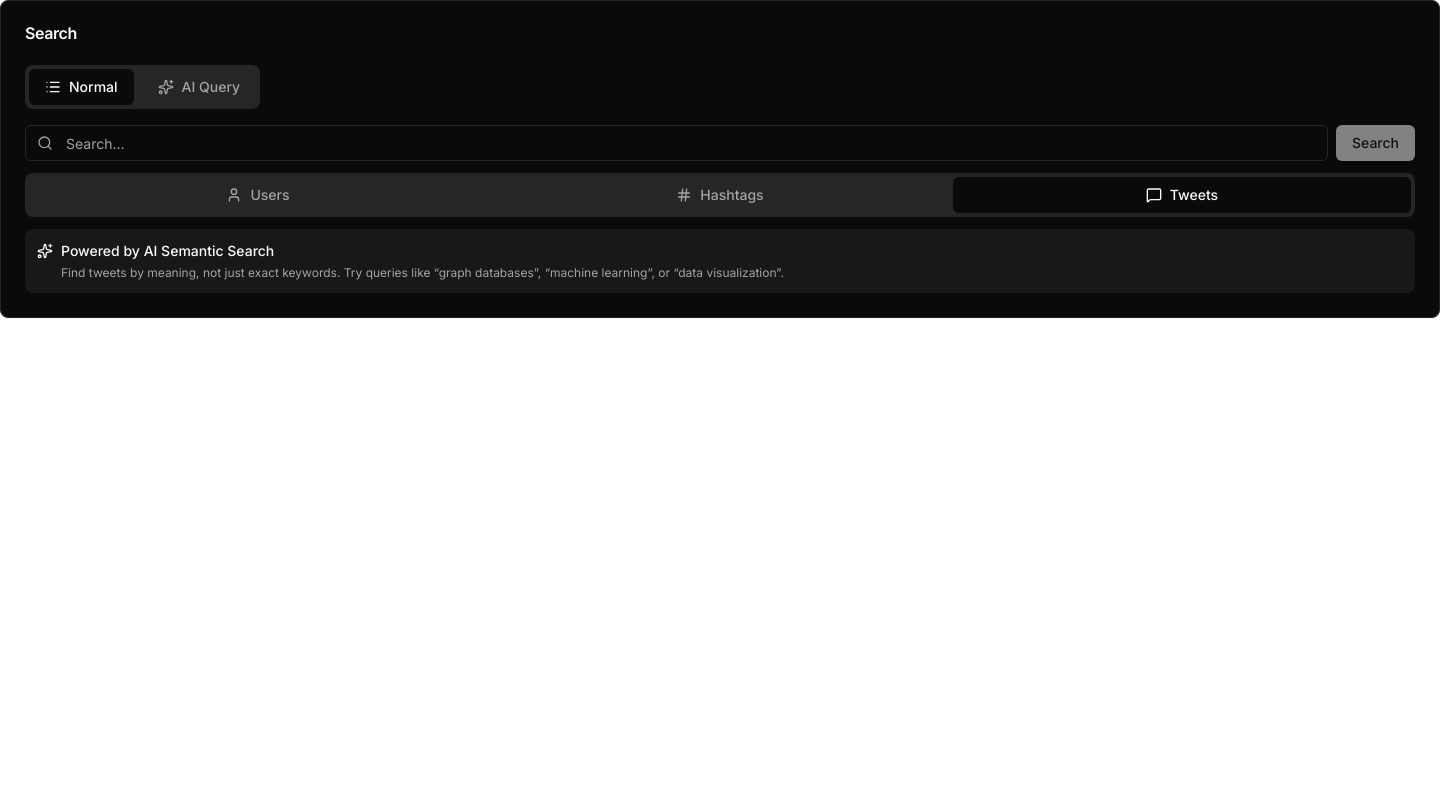
it: GlobalSearch Component › should display error message when search fails
In the field with placeholder "Search...": (676, 143) left=25, top=125, right=1328, bottom=161, type "test"
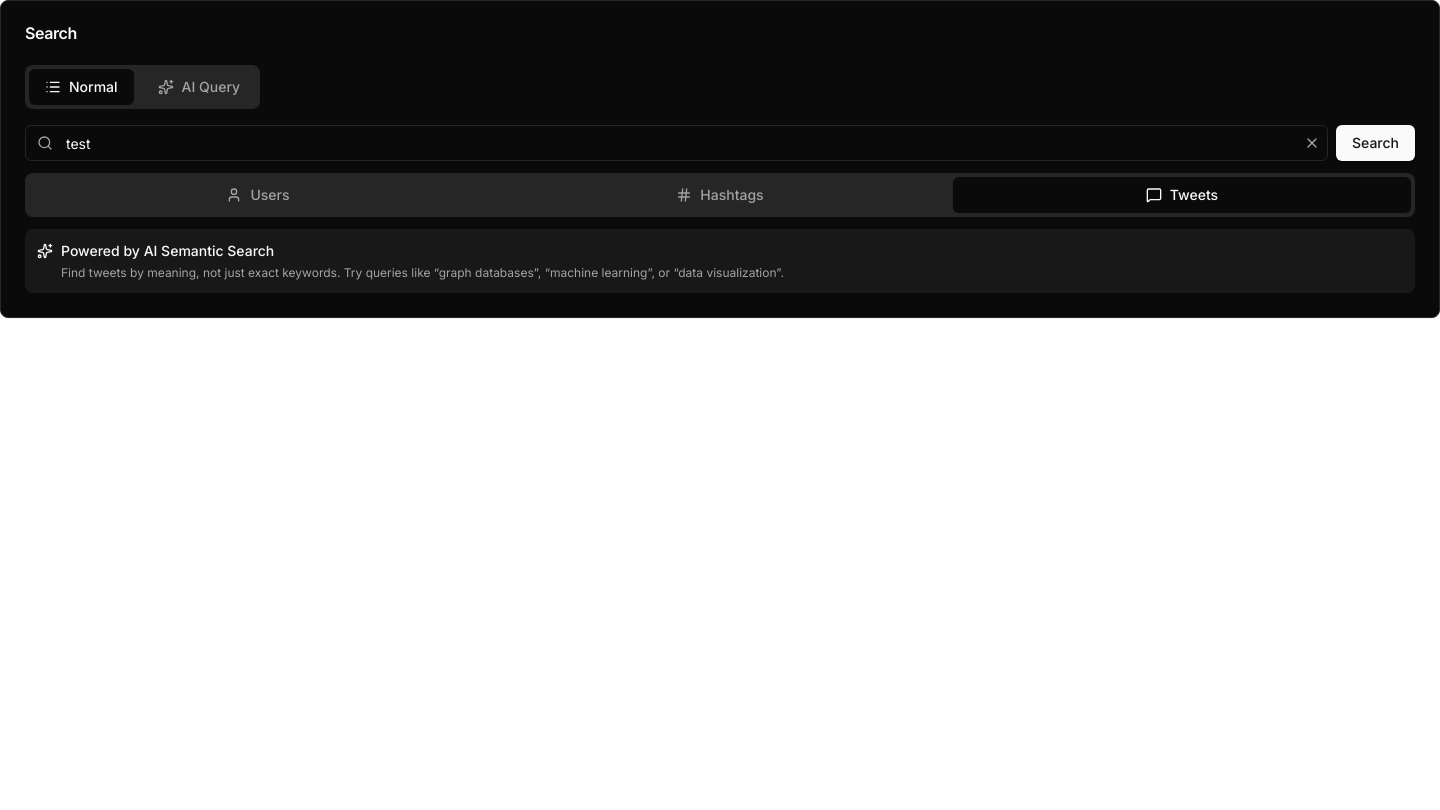
Click the button "Search": click(1376, 143) left=1336, top=125, right=1415, bottom=161
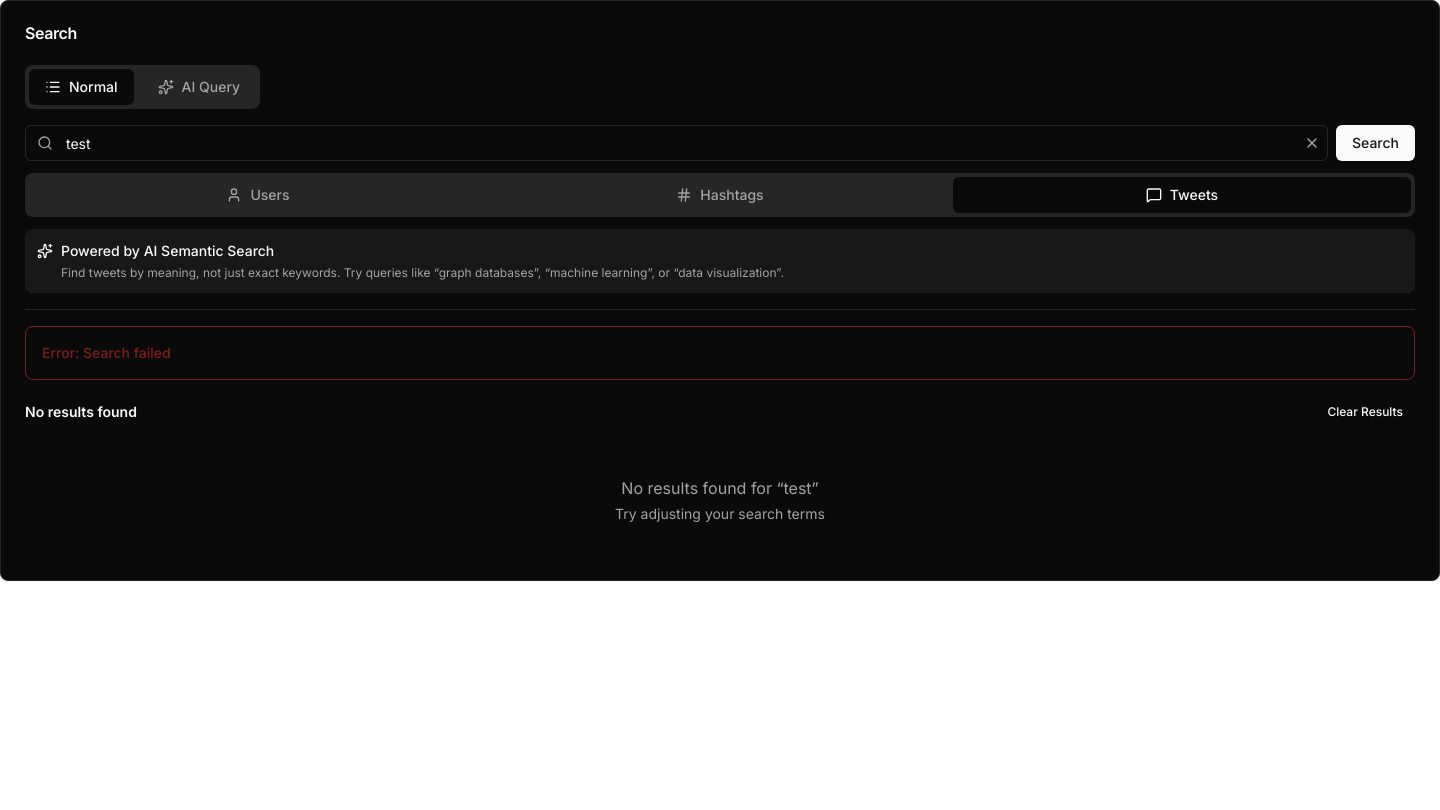
Result: the text "Error: Search failed" is shown at left=42, top=344, right=171, bottom=361
